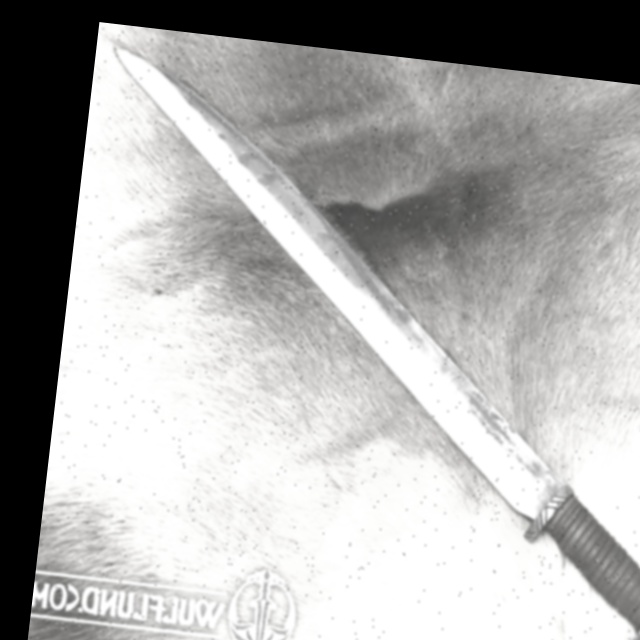Sharp-Object: (37, 34, 640, 634)
